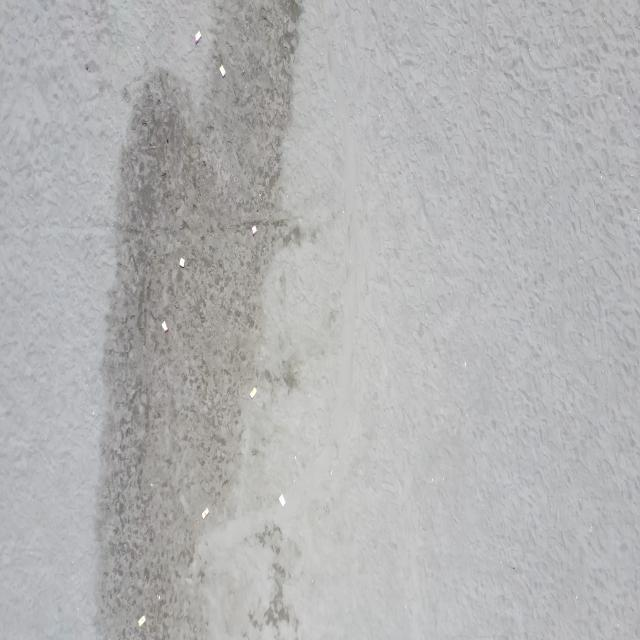retort-pouch: (218, 64, 228, 79), (200, 506, 210, 521), (249, 386, 258, 401), (278, 492, 286, 508), (160, 320, 169, 334), (194, 30, 202, 45), (178, 256, 186, 270), (251, 222, 258, 238), (138, 615, 146, 627)
